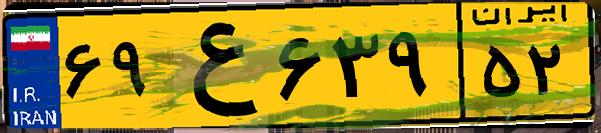2: (525, 38, 570, 115)
3: (330, 28, 385, 110)
5: (475, 38, 525, 113)
6: (270, 28, 330, 110), (57, 26, 110, 100)
9: (385, 28, 445, 110), (110, 28, 158, 98)
ع: (158, 12, 270, 120)
